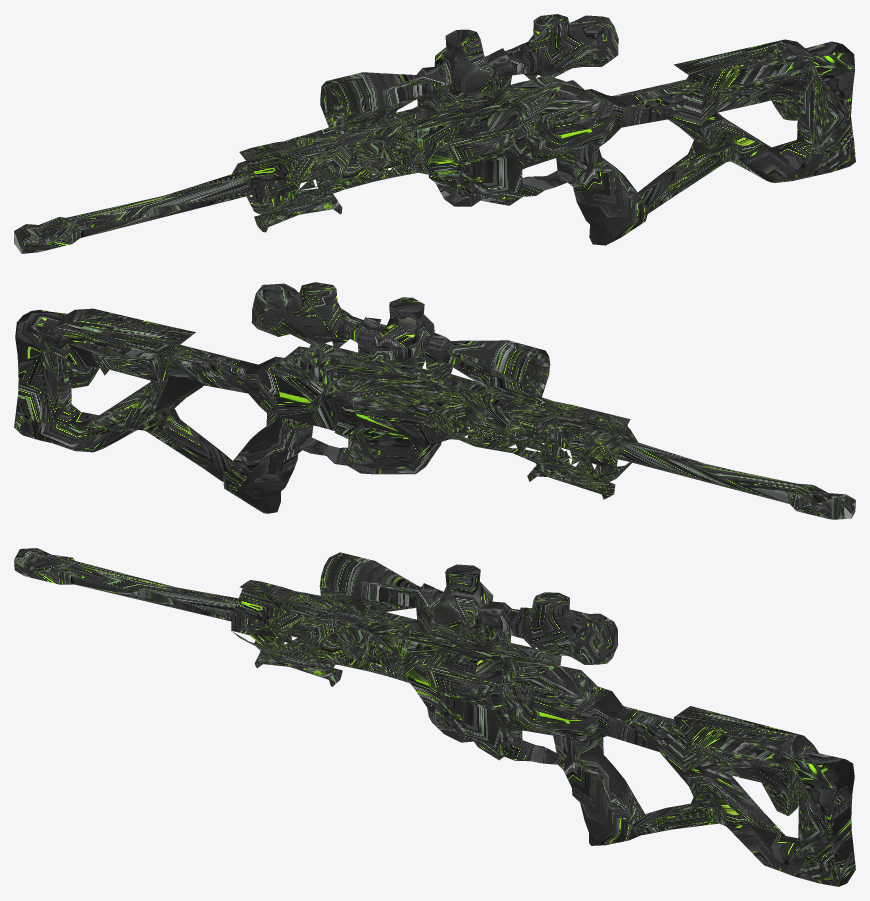
File: gun_dmr_lo.glb
The picture shows the model from 3 angles, top to bottom: view 1: azimuth 30°, elevation 25°; view 2: azimuth 150°, elevation 25°; view 3: azimuth 330°, elevation 25°; orthographic projection.
Parts seen in each view (by area): view 1: Mesh_0; view 2: Mesh_0; view 3: Mesh_0.
Part boxes in pixels (x1,y1,x2,y2): Mesh_0: (14,14,855,253); Mesh_0: (14,282,855,519); Mesh_0: (14,548,855,886).
Bounding box in the file's own units: 1.9 × 0.5235 × 0.1265.
1 material, 1 textured.
